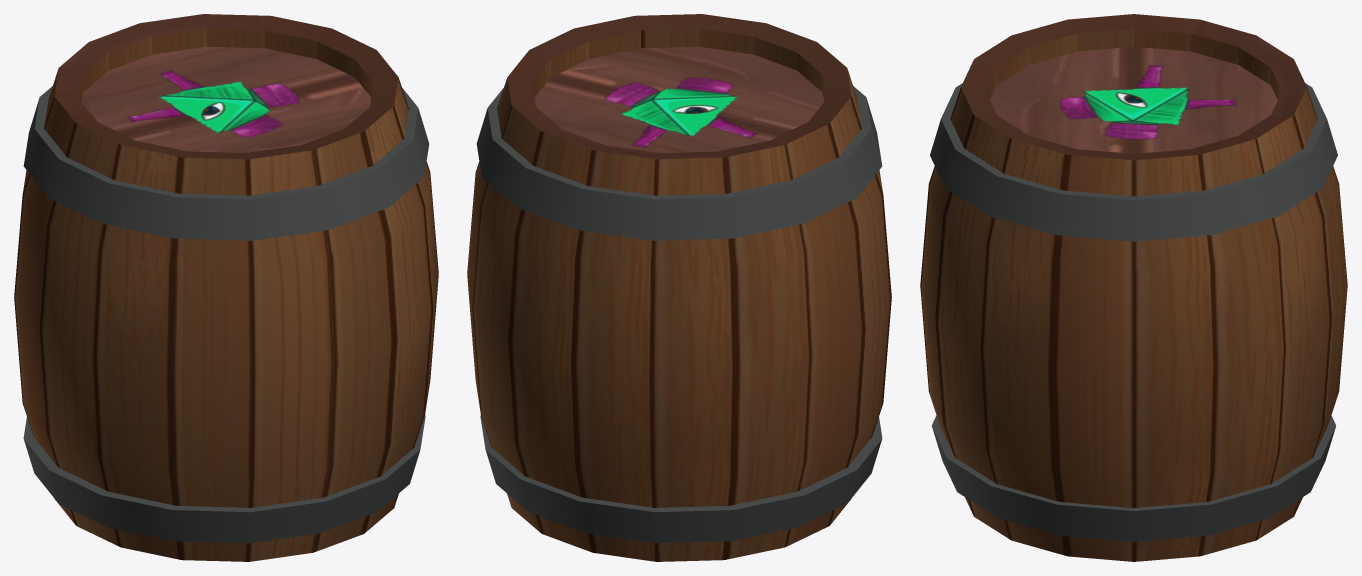
The model's file is barrel.glb.
3 views of the same model, side by side, from view 1: azimuth 30°, elevation 25°; view 2: azimuth 150°, elevation 25°; view 3: azimuth 270°, elevation 25° (orthographic).
Visible parts, largest first — view 1: Barrel, Logo; view 2: Barrel, Logo; view 3: Barrel, Logo.
Part boxes in pixels (<box>): Barrel: <box>14,14,438,561</box>; Logo: <box>127,70,299,137</box>; Barrel: <box>467,14,891,561</box>; Logo: <box>604,77,759,147</box>; Barrel: <box>920,14,1347,561</box>; Logo: <box>1059,65,1236,139</box>.
Size of what is drawn, in the model's own units: 1.16 by 1.2 by 1.16.
Materials: 3 (3 with a texture image).
